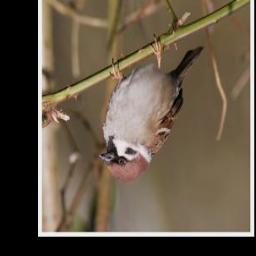Sparrow: (96, 34, 208, 185)
